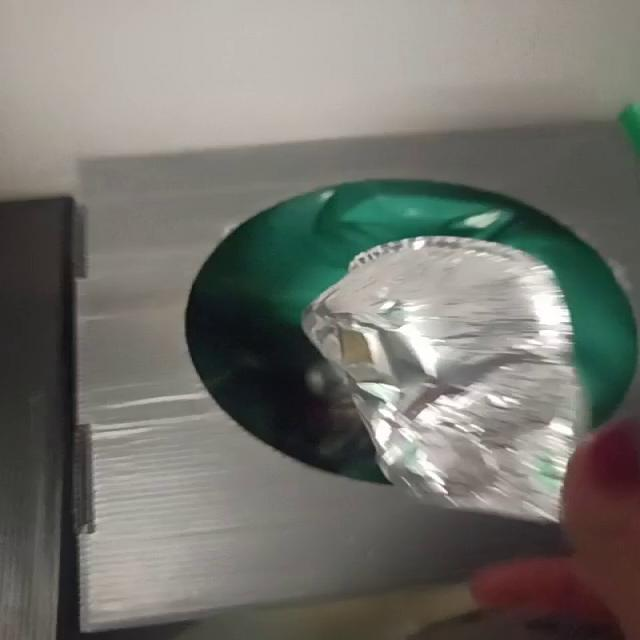bin: (77, 125, 639, 632)
metal: (301, 237, 589, 522)
